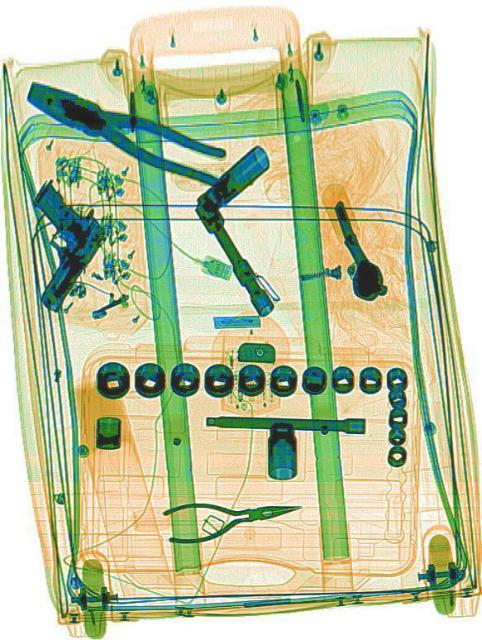Gun: (0, 180, 106, 316)
Pliers: (20, 65, 227, 195), (160, 484, 300, 548)
